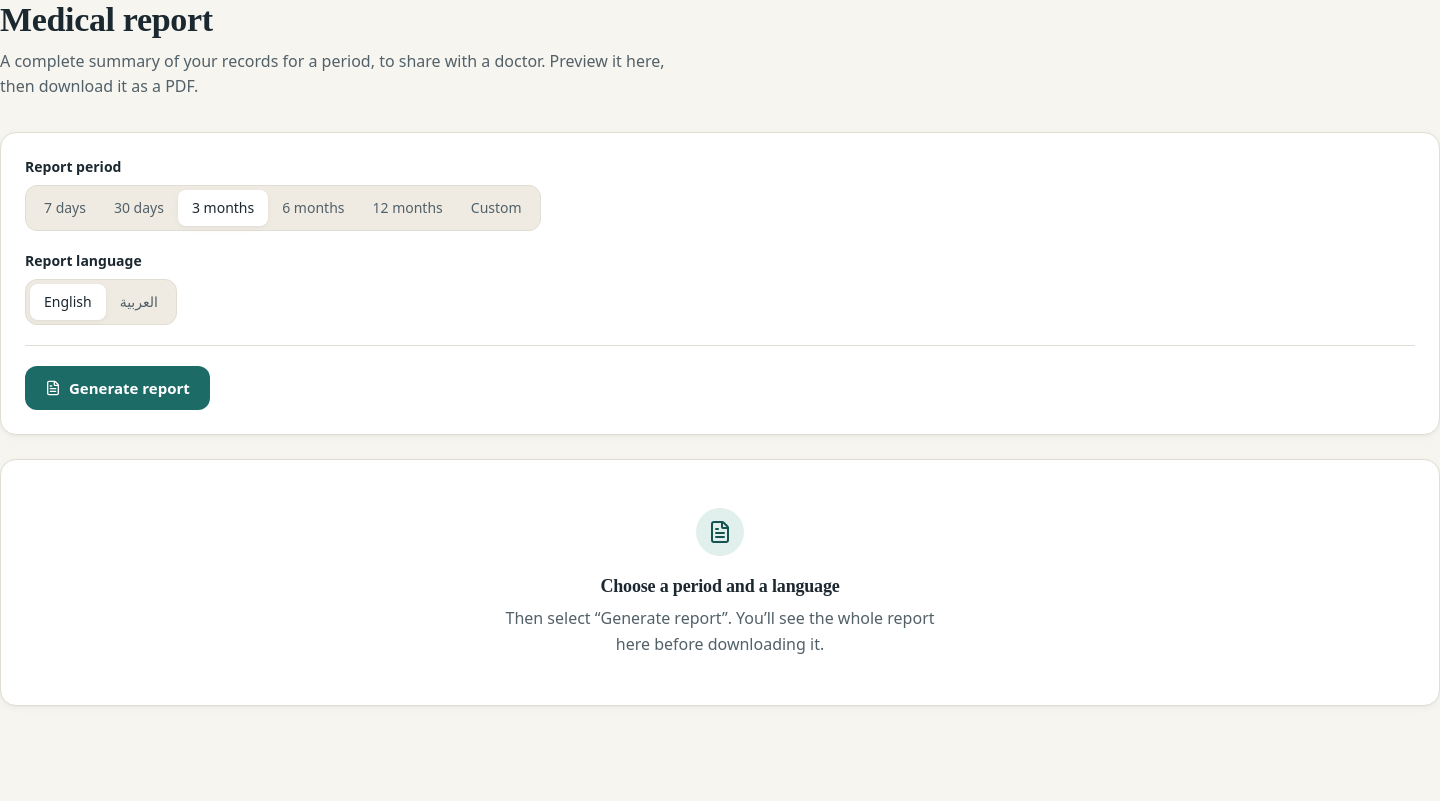
it: MedicalReportPage › waits for the user, then generates and previews the whole report
expect the heading "Choose a period and a language" is shown: met, box [600,572,840,600]
What coordinates should you click on to do the following:
click the button "Generate report"
I would click on:
 (117, 388)
Its box is [25,366,210,410].
(page scrolled)
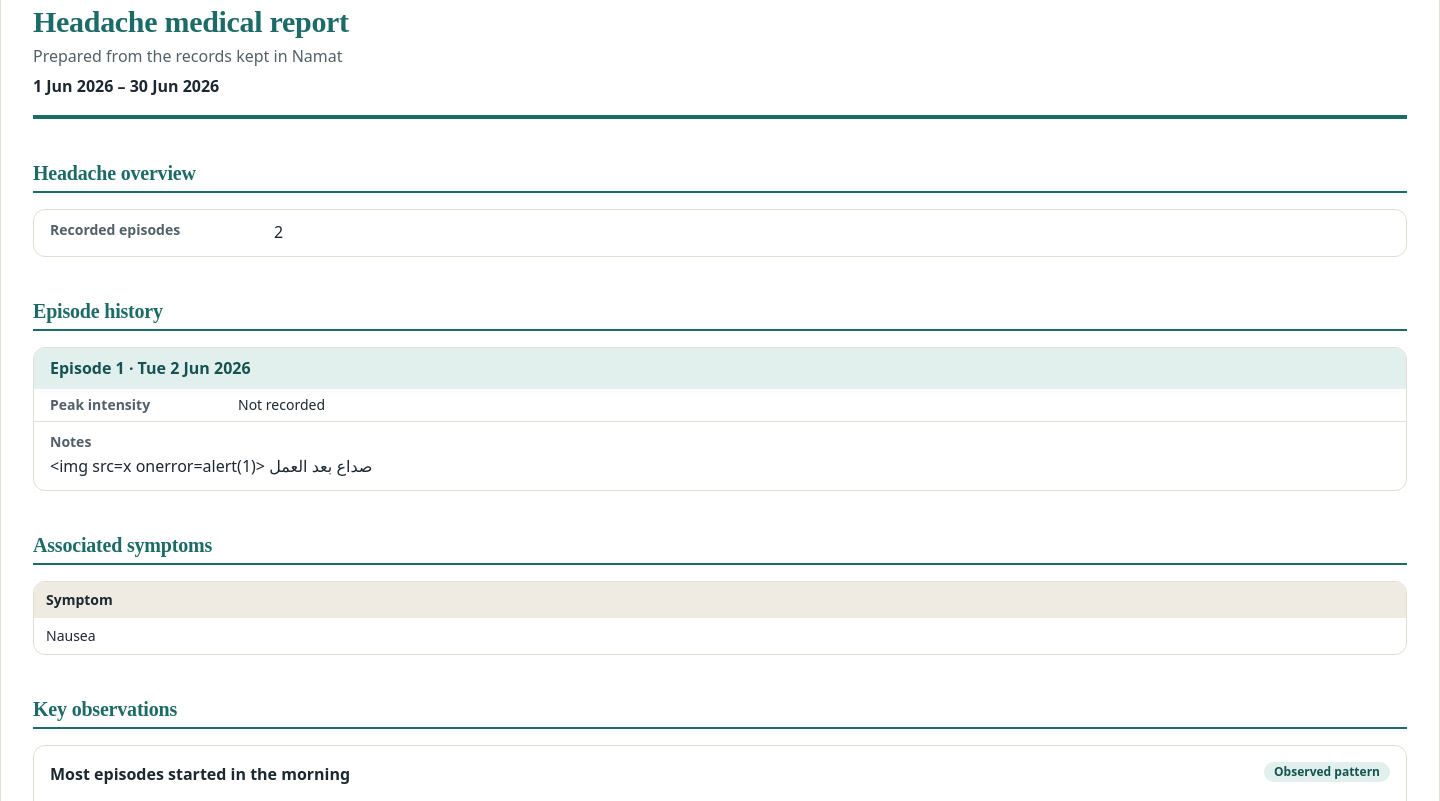
expect the heading "Headache medical report" is shown: met, box [33,5,349,38]
expect the heading "Headache overview" is shown: met, box [33,159,1407,193]
expect the heading "Episode history" is shown: met, box [33,297,1407,331]
